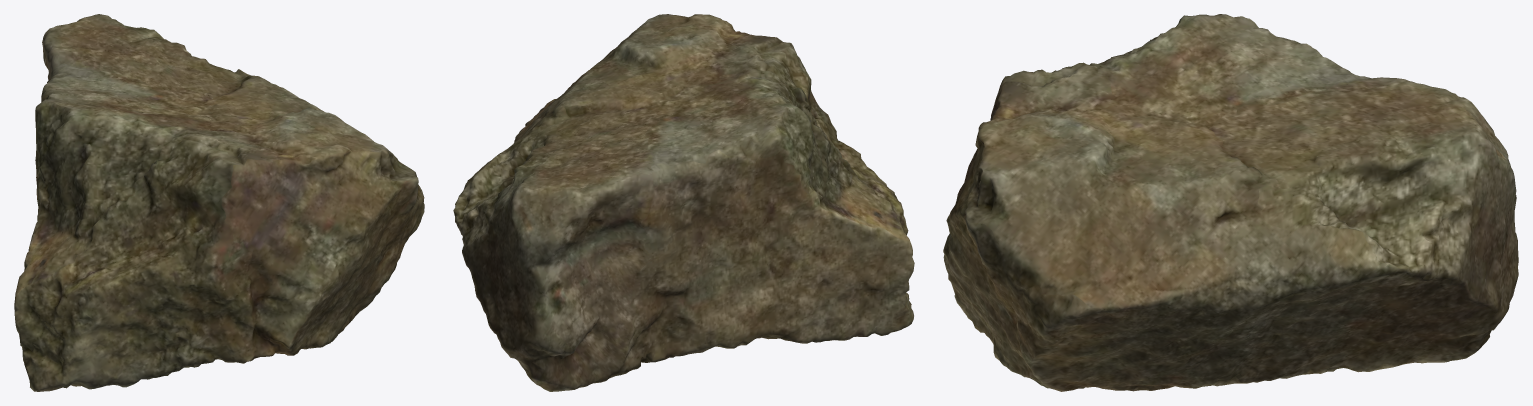
File: inverno-rocha-granito-b.glb
The picture shows the model from 3 angles, left to right: view 1: azimuth 30°, elevation 25°; view 2: azimuth 150°, elevation 25°; view 3: azimuth 270°, elevation 25°; orthographic projection. The views are drawn at different scales.
Visible parts, largest first — view 1: inverno-rocha-granito-b; view 2: inverno-rocha-granito-b; view 3: inverno-rocha-granito-b.
Boxes of the visible parts, box(x1,y1,x2,y2) form: inverno-rocha-granito-b: box(14, 14, 424, 391); inverno-rocha-granito-b: box(453, 14, 914, 391); inverno-rocha-granito-b: box(943, 14, 1518, 391).
Bounding box in the file's own units: 7.75 × 4.5 × 8.54.
Materials: 1 (1 with a texture image).
